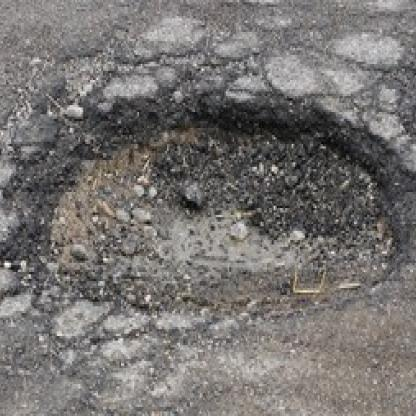pothole: (1, 87, 408, 320)
